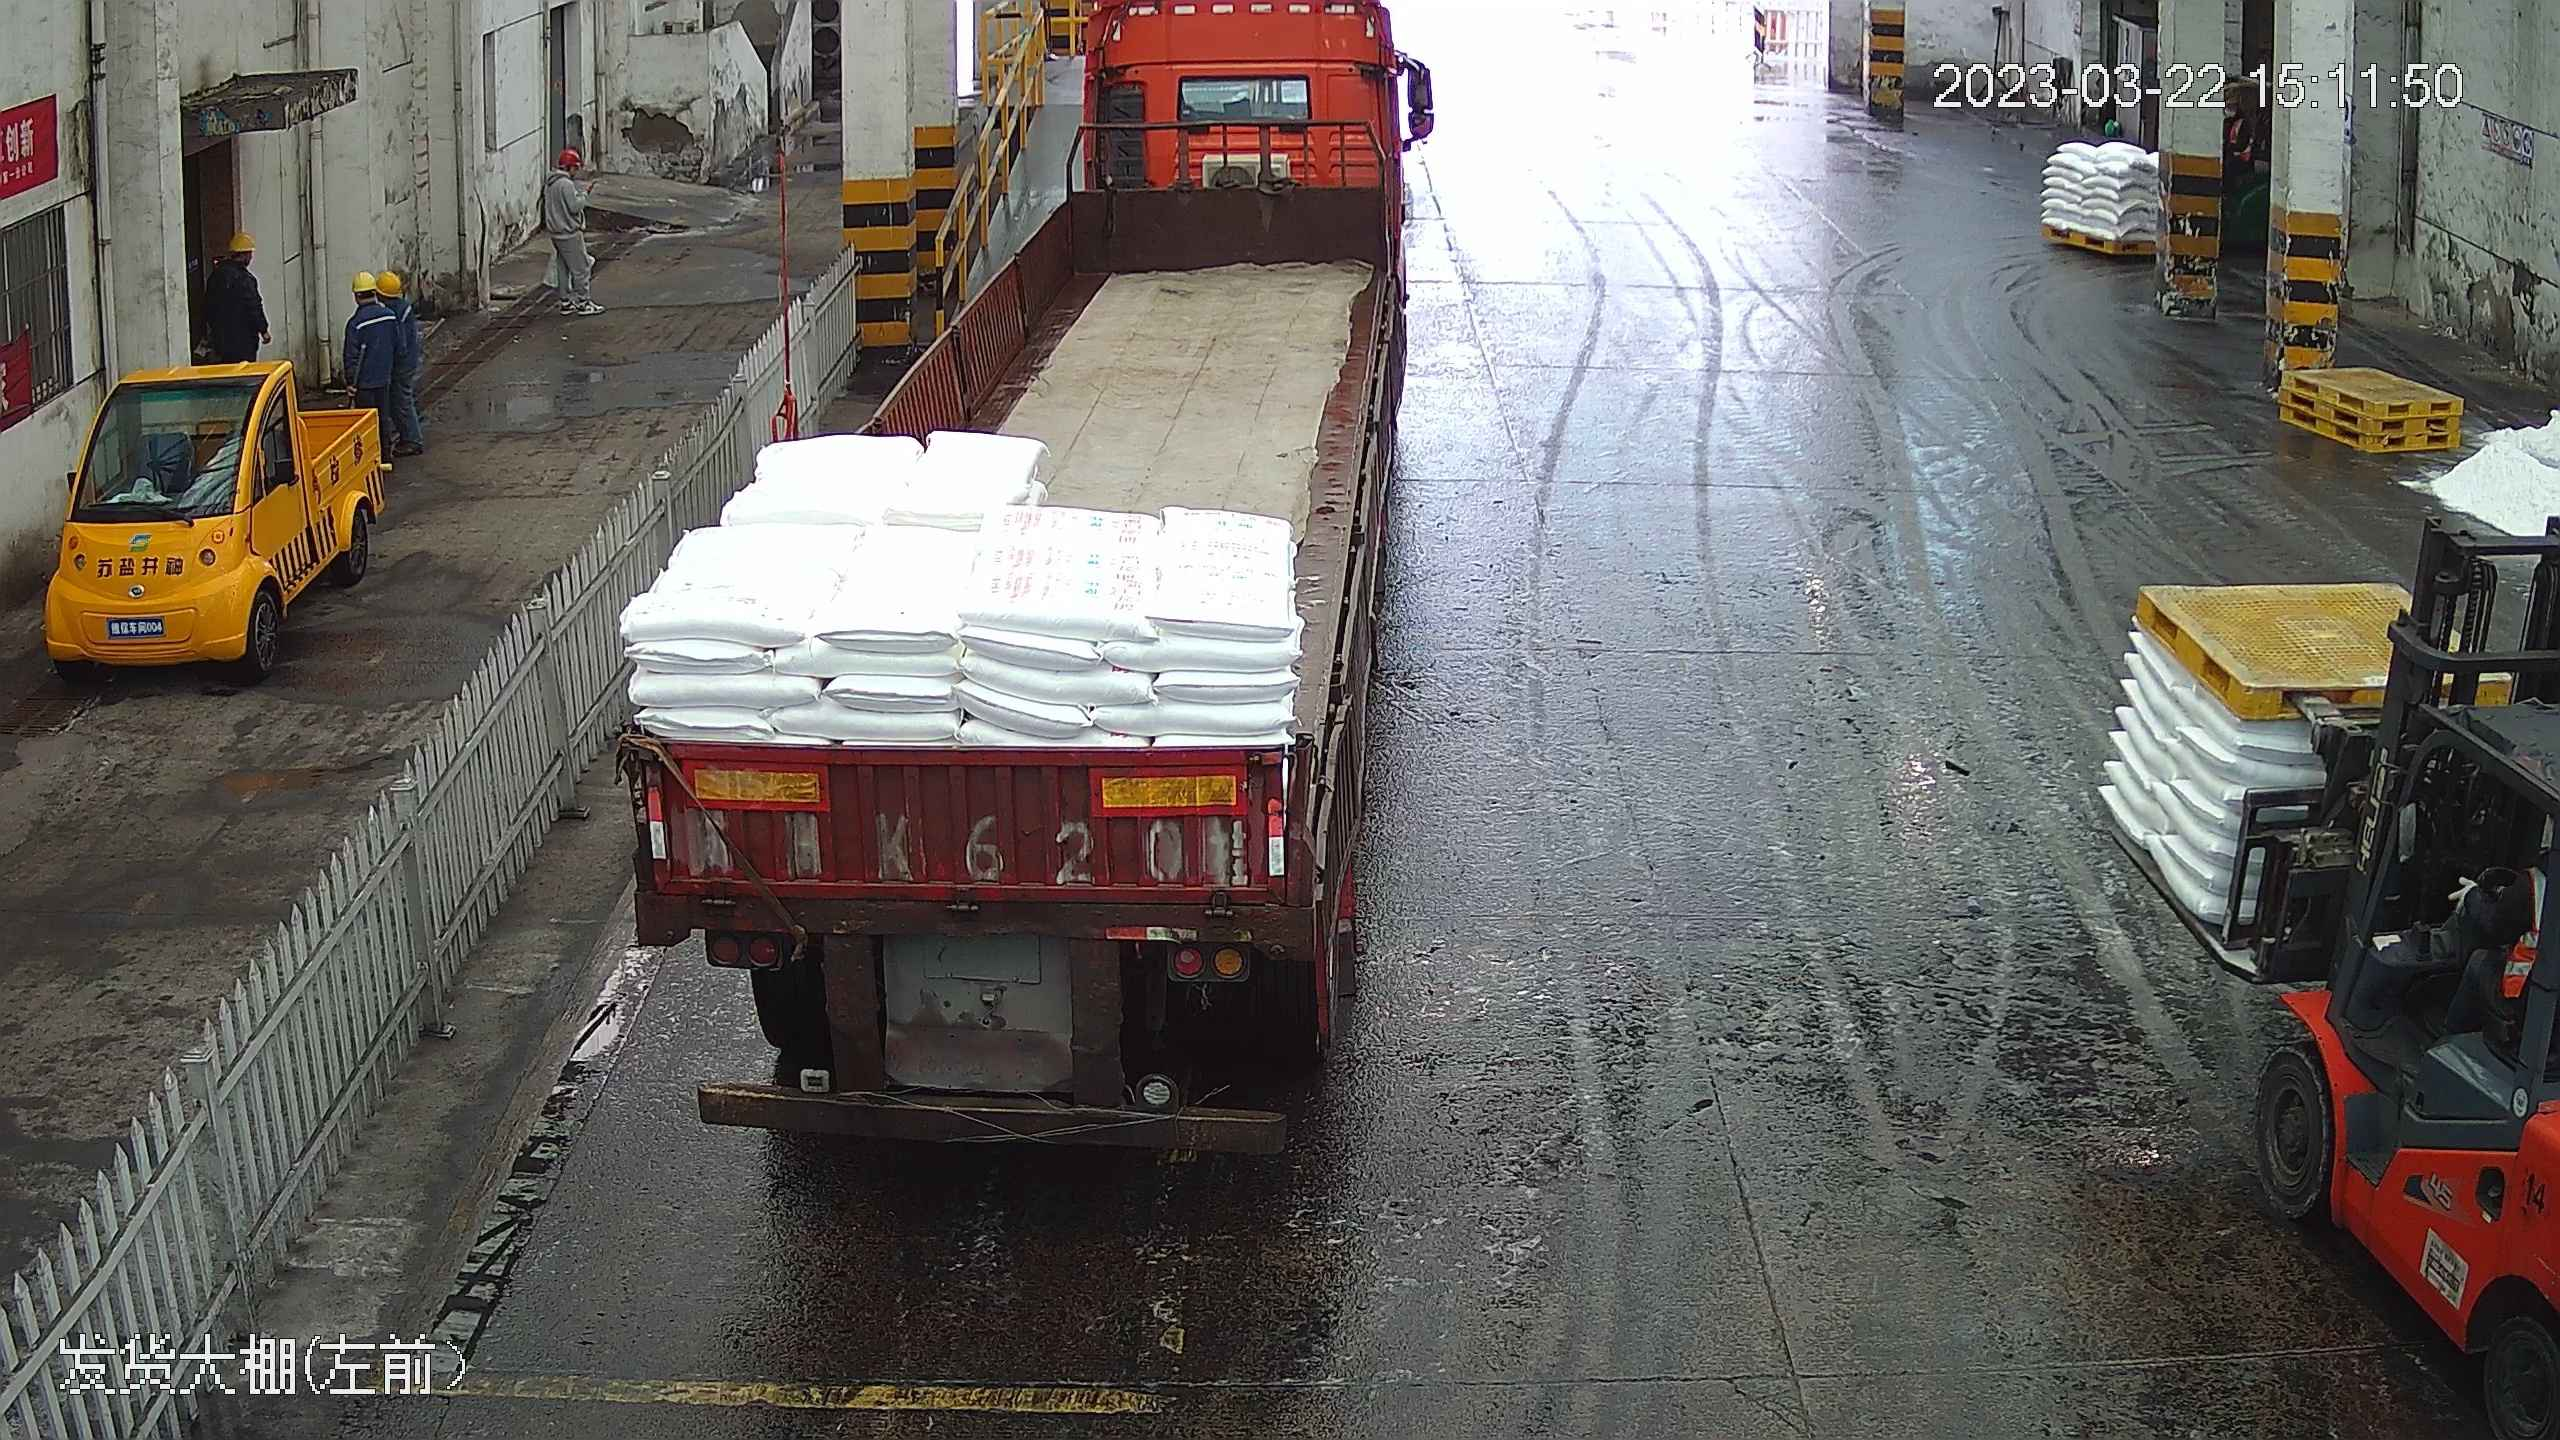head: (206, 229, 262, 295), (346, 270, 400, 337), (548, 143, 591, 194)
helmet: (355, 270, 393, 294), (223, 229, 254, 253), (372, 271, 403, 294), (556, 145, 582, 167)
people: (346, 268, 402, 466), (543, 140, 606, 317)
truck: (615, 1, 1446, 1147)
